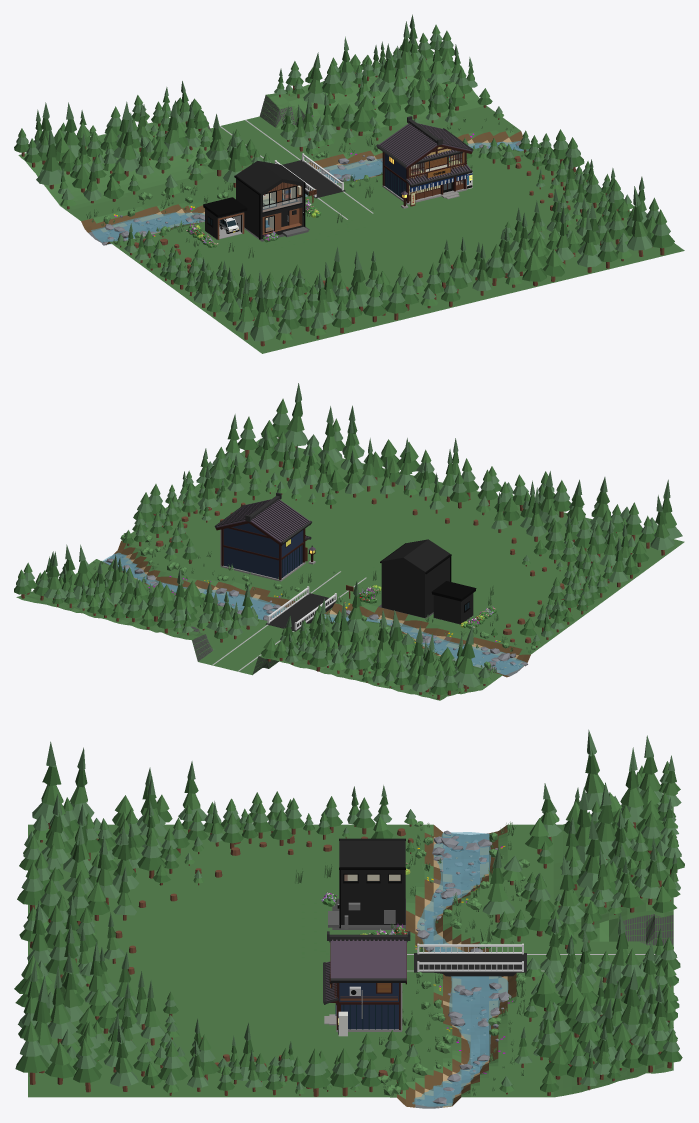
The model's file is town.glb.
The picture shows the model from 3 angles, top to bottom: view 1: azimuth 30°, elevation 25°; view 2: azimuth 150°, elevation 25°; view 3: azimuth 270°, elevation 25°; orthographic projection. The views are drawn at different scales.
Parts seen in each view (by area): view 1: Ground, Cube, River, TH_Roof, TH_Windows, Bridge, Garage, TH_Walls, House_Trim, TH_Canopy, PineTree_s104, PineTree_s70 (+11 smaller); view 2: Ground, Cube, TH_Walls, River, TH_Roof, Garage, Bridge, PineTree_152, PineTree_s104, TH_Frame, PineTree_s15, PineTree_s7 (+1 smaller); view 3: Ground, River, Cube, TH_Roof, Bridge, TH_Walls, TH_Props, PineTree_s100, PineTree_s70, PineTree_115, PineTree_s104, PineTree_s7 (+34 smaller).
Boxes of the visible parts, x1,y1,x2,y2 form: Ground: (18,55,684,353); Cube: (235,161,308,239); River: (91,141,528,244); TH_Roof: (376,116,473,169); TH_Windows: (408,153,466,201); Bridge: (274,153,345,198); Garage: (203,197,247,239); TH_Walls: (382,147,466,204); House_Trim: (234,164,305,239); TH_Canopy: (405,150,472,187); PineTree_s104: (627,186,652,256); PineTree_s70: (250,279,276,346); Ground: (16,438,684,700); Cube: (381,539,449,617); TH_Walls: (221,523,305,581); River: (102,552,525,674); TH_Roof: (214,492,311,545); Garage: (431,581,476,624); Bridge: (265,586,336,631); PineTree_152: (454,626,479,691); PineTree_s104: (285,383,308,448); TH_Frame: (221,527,305,579); PineTree_s15: (650,495,674,555); PineTree_s7: (318,406,342,462); Ground: (28,806,673,1108); River: (412,832,508,1106); Cube: (328,838,405,929); TH_Roof: (327,931,410,984); Bridge: (414,943,526,976); TH_Walls: (336,983,401,1031); TH_Props: (338,983,402,1036); PineTree_s100: (15,1021,48,1084); PineTree_s70: (32,741,63,828); PineTree_115: (482,847,514,922); PineTree_s104: (32,975,55,1073); PineTree_s7: (48,965,77,1043).
Bounding box in the file's own units: 58.2 × 10.84 × 58.2.
Materials: 3 (1 with a texture image).
